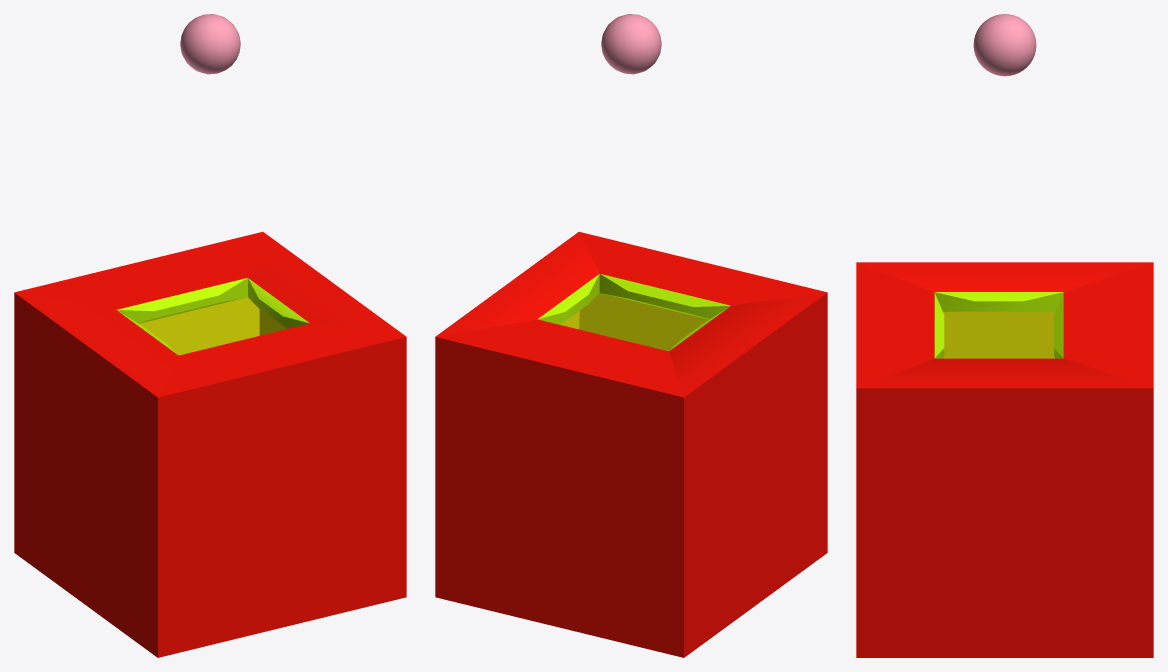
File: simple_001_Camera_00.dae
3 views of the same model, side by side, from view 1: azimuth 30°, elevation 25°; view 2: azimuth 150°, elevation 25°; view 3: azimuth 270°, elevation 25° (orthographic). The views are drawn at different scales.
Visible parts, largest first — view 1: pCube1, pSphere1; view 2: pCube1, pSphere1; view 3: pCube1, pSphere1.
Boxes of the visible parts, left/top/right/bottom form: pCube1: left=14, top=232, right=406, bottom=657; pSphere1: left=180, top=14, right=240, bottom=74; pCube1: left=435, top=232, right=827, bottom=657; pSphere1: left=601, top=14, right=661, bottom=74; pCube1: left=856, top=262, right=1153, bottom=657; pSphere1: left=973, top=14, right=1036, bottom=76.
Bounding box in the file's own units: 9.48 × 9.48 × 20.32.
